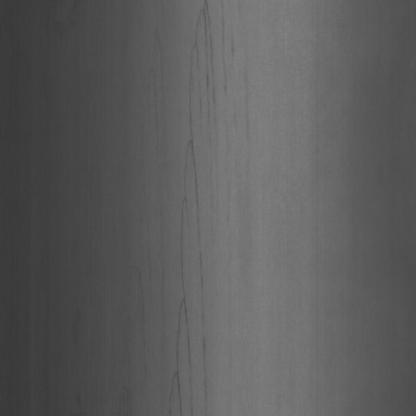water_spot: (152, 12, 256, 406)
